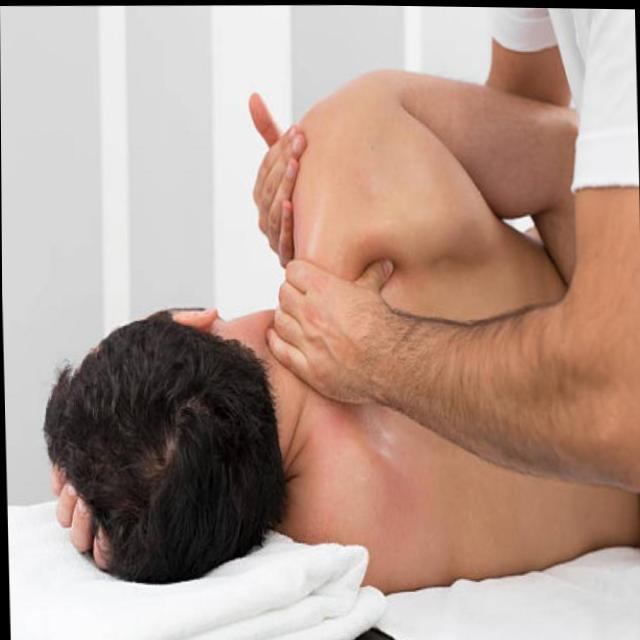no helmet: (48, 303, 294, 582)
